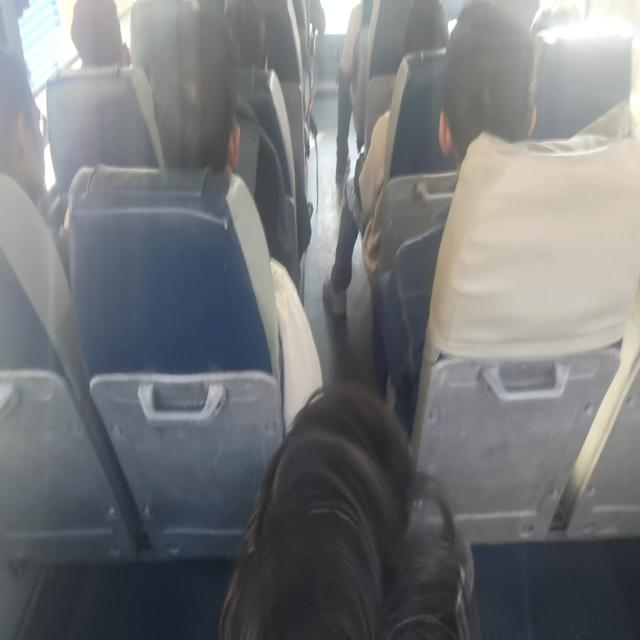person: (410, 0, 638, 436), (130, 2, 324, 432), (369, 1, 538, 433), (218, 380, 476, 638), (321, 0, 449, 316), (0, 48, 86, 390), (45, 0, 161, 196), (0, 49, 68, 239), (335, 1, 363, 184), (70, 0, 131, 68)
